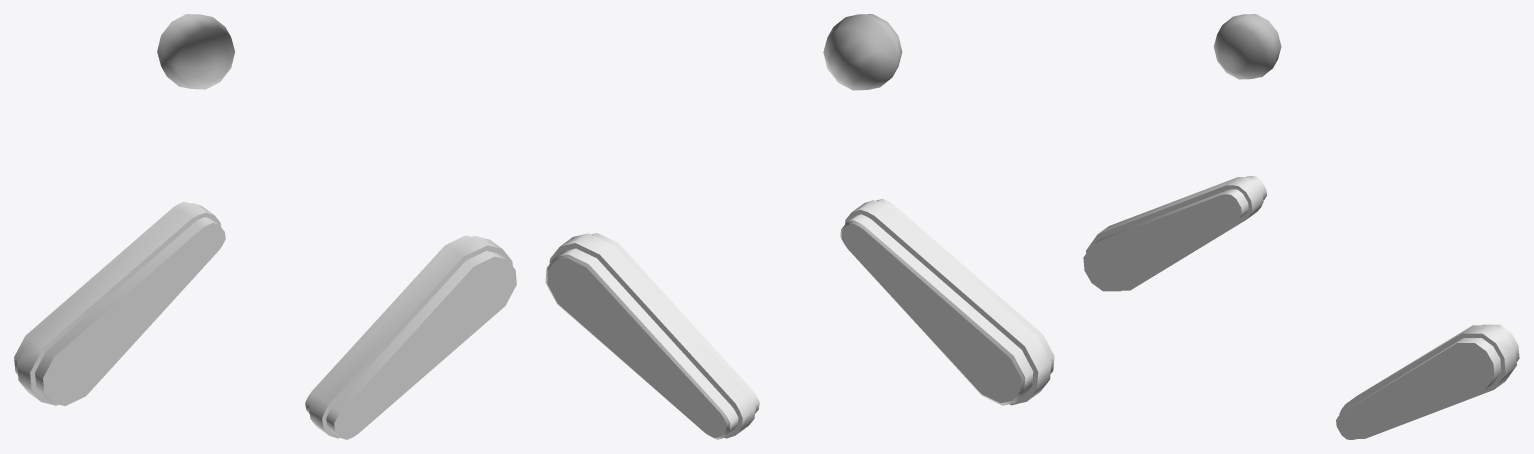
The model's file is pin1.ico.obj.
3 views of the same model, side by side, from view 1: azimuth 30°, elevation 25°; view 2: azimuth 150°, elevation 25°; view 3: azimuth 330°, elevation 25° (orthographic). The views are drawn at different scales.
Bounding box in the file's own units: 4.59 × 4.05 × 0.6414.
1 material, 1 textured.
